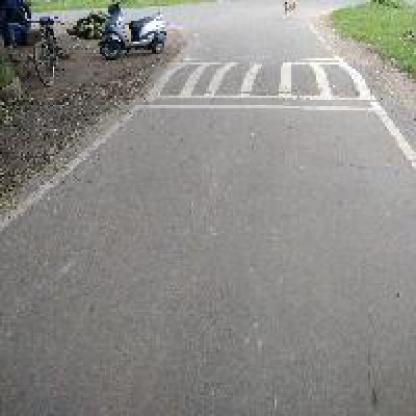Speed Bump: (137, 54, 379, 110)
